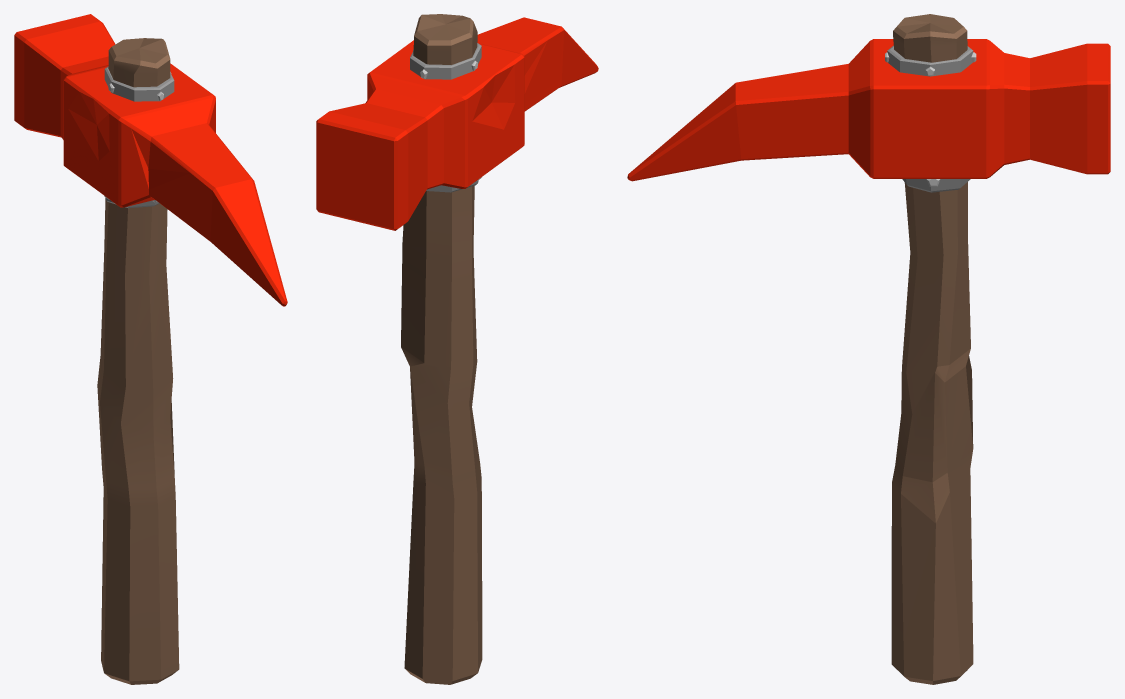
The model's file is Hammer4_Red.fbx.
3 views of the same model, side by side, from view 1: azimuth 30°, elevation 25°; view 2: azimuth 150°, elevation 25°; view 3: azimuth 270°, elevation 25° (orthographic). The views are drawn at different scales.
Parts seen in each view (by area): view 1: Hammer4_Red; view 2: Hammer4_Red; view 3: Hammer4_Red.
Boxes of the visible parts, box(x1,y1,x2,y2) form: Hammer4_Red: box(14, 14, 287, 684); Hammer4_Red: box(316, 14, 598, 684); Hammer4_Red: box(627, 14, 1110, 684).
Size of the model in its own units: 9.23 by 57.03 by 38.39.
